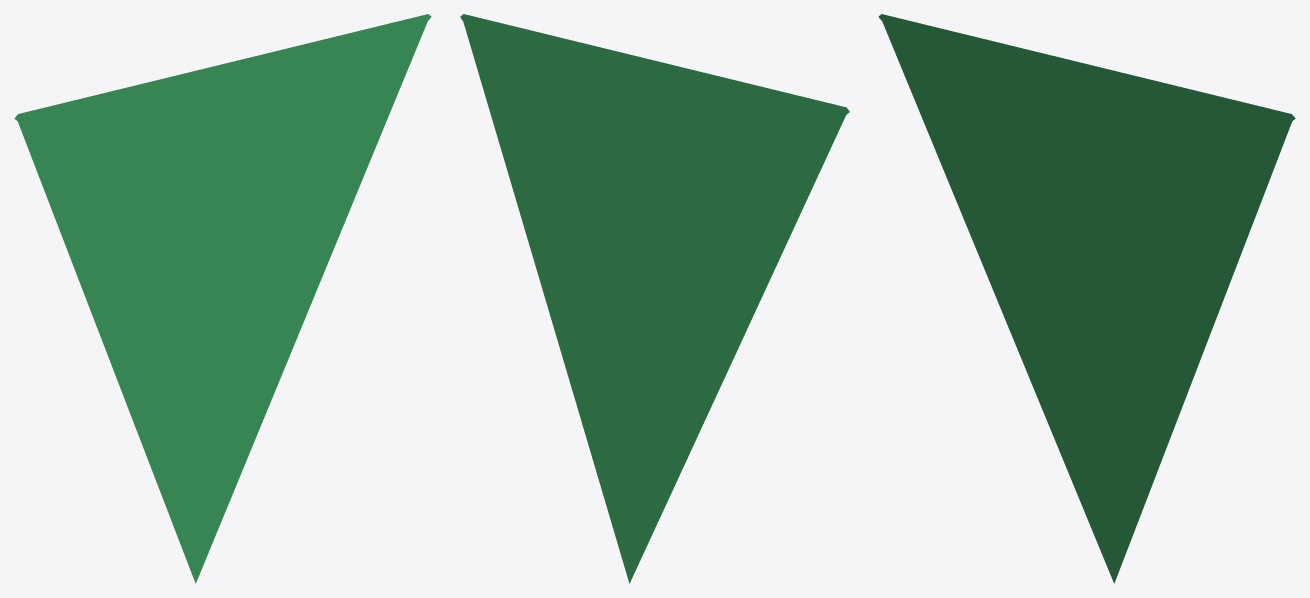
The model's file is 28_green.fbx.
3 views of the same model, side by side, from view 1: azimuth 30°, elevation 25°; view 2: azimuth 150°, elevation 25°; view 3: azimuth 330°, elevation 25° (orthographic). The views are drawn at different scales.
Parts seen in each view (by area): view 1: 28_green; view 2: 28_green; view 3: 28_green.
Part boxes in pixels (x1=…): 28_green: x1=14, y1=14, x2=431, y2=583; 28_green: x1=460, y1=14, x2=849, y2=583; 28_green: x1=878, y1=14, x2=1295, y2=583.
Bounding box in the file's own units: 70.49 × 87.15 × 8.05.
